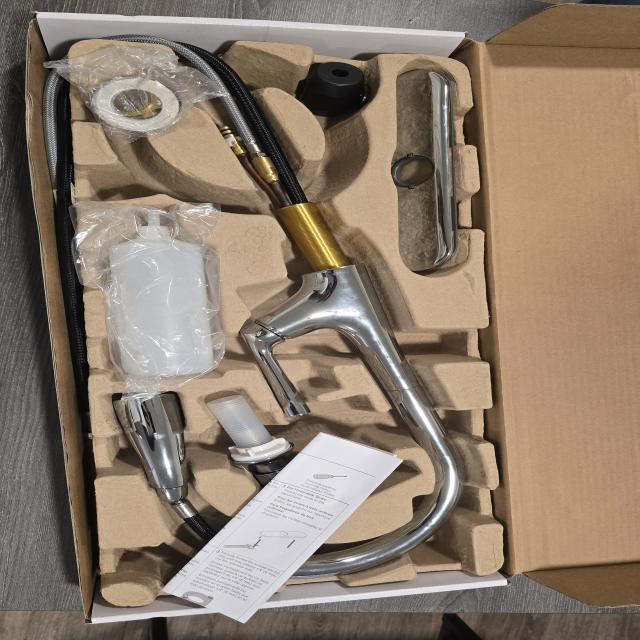1o: (112, 51, 465, 580)
2o: (207, 395, 385, 511)
3: (107, 211, 211, 375)
4: (387, 71, 457, 271)
5: (298, 61, 372, 121)
6: (50, 45, 205, 140)
7m: (98, 169, 179, 195)
8: (160, 432, 406, 625)
